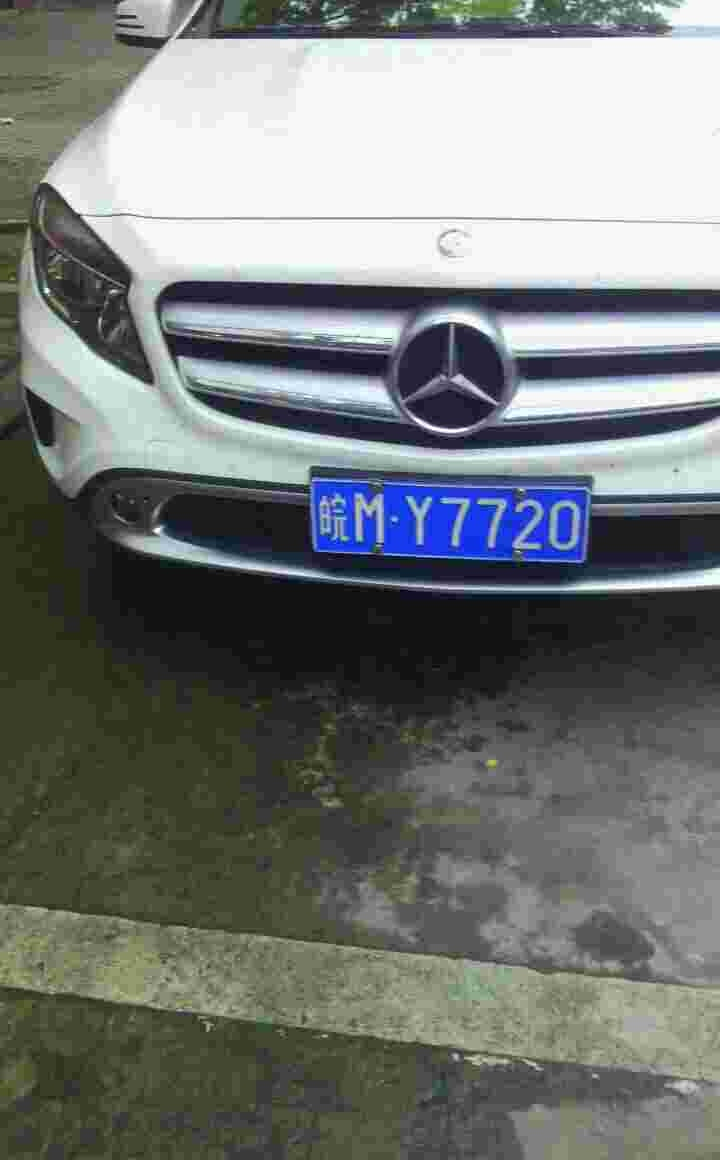license_plate: (302, 485, 583, 562)
